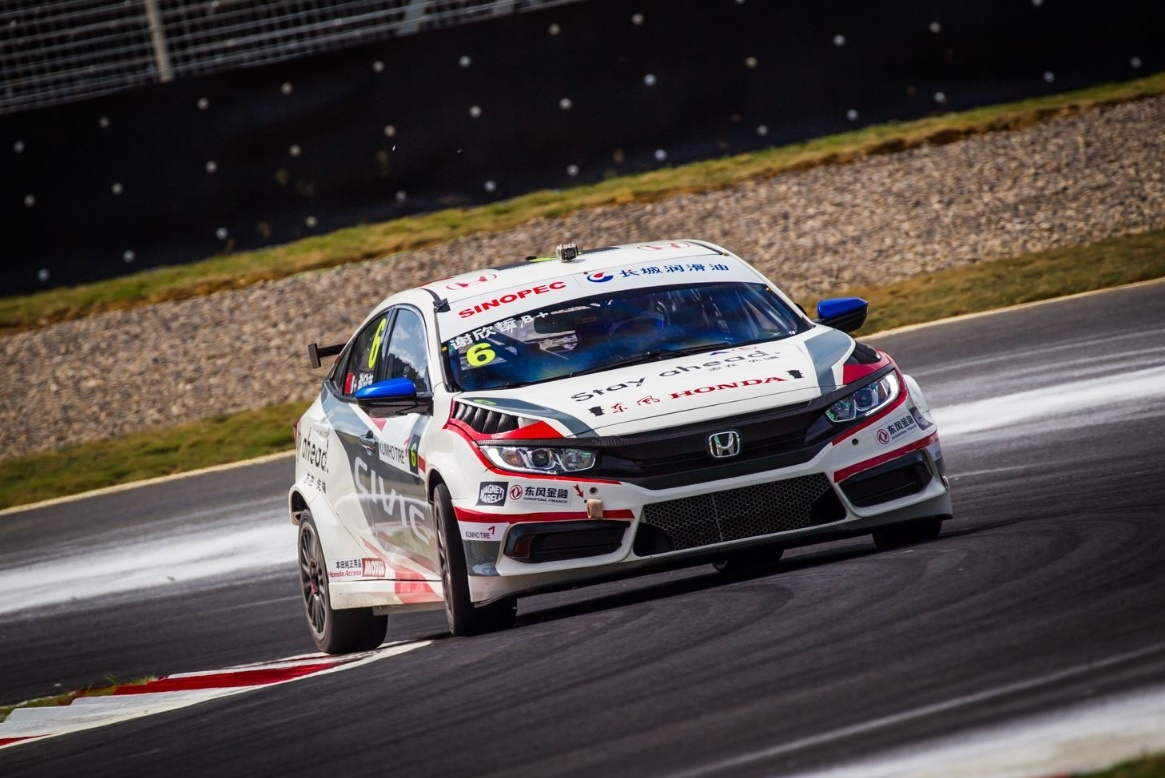racing car: (283, 230, 950, 620)
